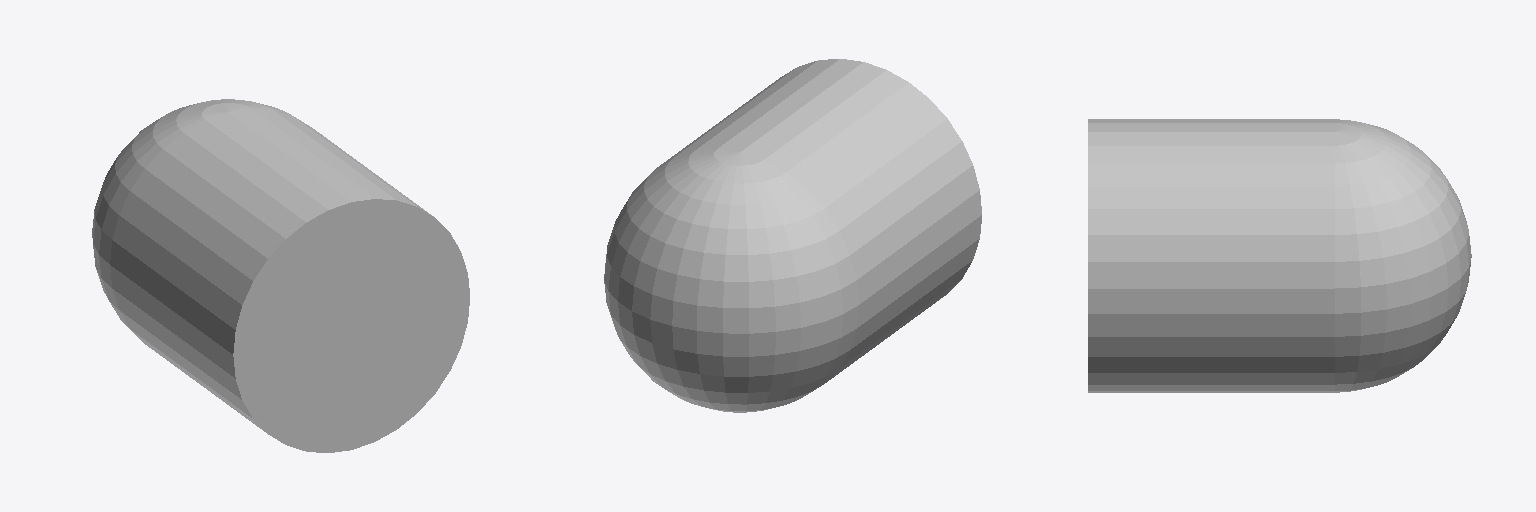
File: directional.obj
3 views of the same model, side by side, from view 1: azimuth 30°, elevation 25°; view 2: azimuth 150°, elevation 25°; view 3: azimuth 270°, elevation 25° (orthographic).
Parts seen in each view (by area): view 1: Directional_Sphere.002; view 2: Directional_Sphere.002; view 3: Directional_Sphere.002.
Part boxes in pixels (x1,y1,x2,y2): Directional_Sphere.002: (92,99,469,452); Directional_Sphere.002: (604,59,981,412); Directional_Sphere.002: (1088,119,1471,392).
Bounding box in the file's own units: 2 × 2 × 2.8.